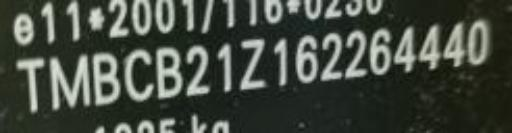letter: (46, 52, 92, 111), (120, 47, 156, 102), (236, 35, 270, 92), (12, 56, 46, 113), (90, 48, 122, 107), (152, 43, 184, 100), (182, 41, 214, 96), (340, 27, 370, 80), (390, 22, 418, 75), (292, 31, 320, 84), (440, 18, 468, 69), (416, 20, 444, 71), (466, 16, 492, 67), (318, 31, 344, 82), (368, 24, 392, 77), (214, 39, 236, 94), (270, 35, 290, 90)
